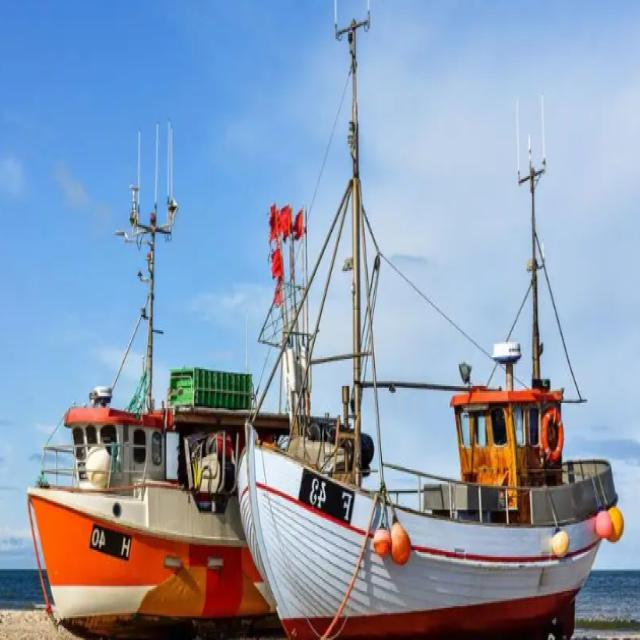fishing boat: (245, 81, 624, 637), (32, 251, 396, 639)
